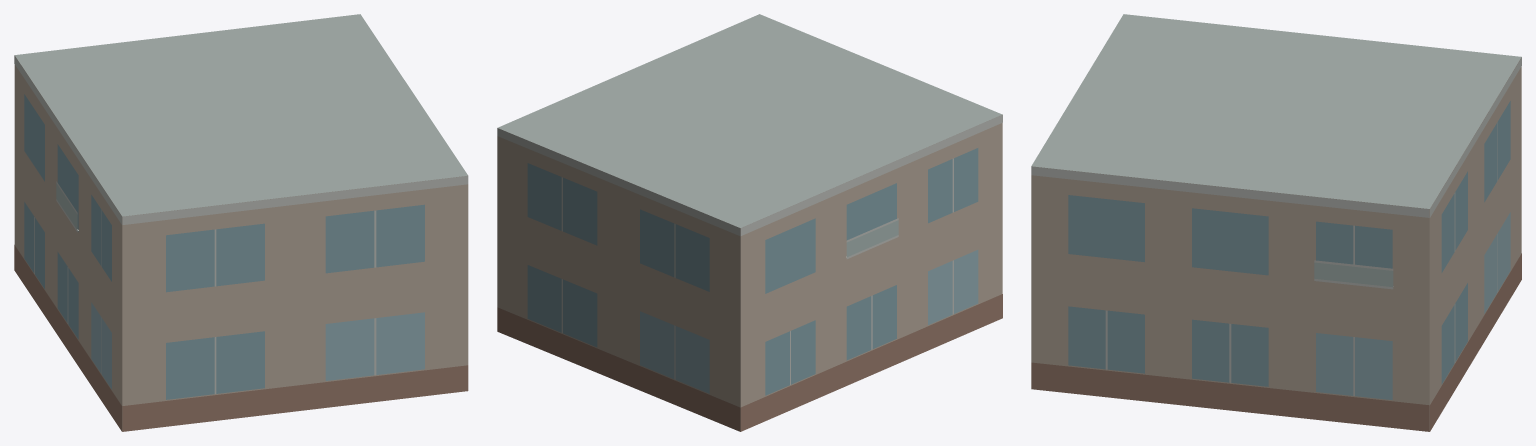
File: survey-upis-32913307.glb
3 renders of one model, left to right at view 1: azimuth 30°, elevation 25°; view 2: azimuth 150°, elevation 25°; view 3: azimuth 270°, elevation 25°, orthographic. The views are drawn at different scales.
Visible parts, largest first — view 1: survey-upis-32913307.tmp; view 2: survey-upis-32913307.tmp; view 3: survey-upis-32913307.tmp.
Part boxes in pixels (left/top/right/bottom): survey-upis-32913307.tmp: left=14, top=14, right=468, bottom=431; survey-upis-32913307.tmp: left=497, top=14, right=1002, bottom=431; survey-upis-32913307.tmp: left=1031, top=14, right=1521, bottom=431.
Size of the model in its own units: 11.46 by 6.1 by 12.18.
